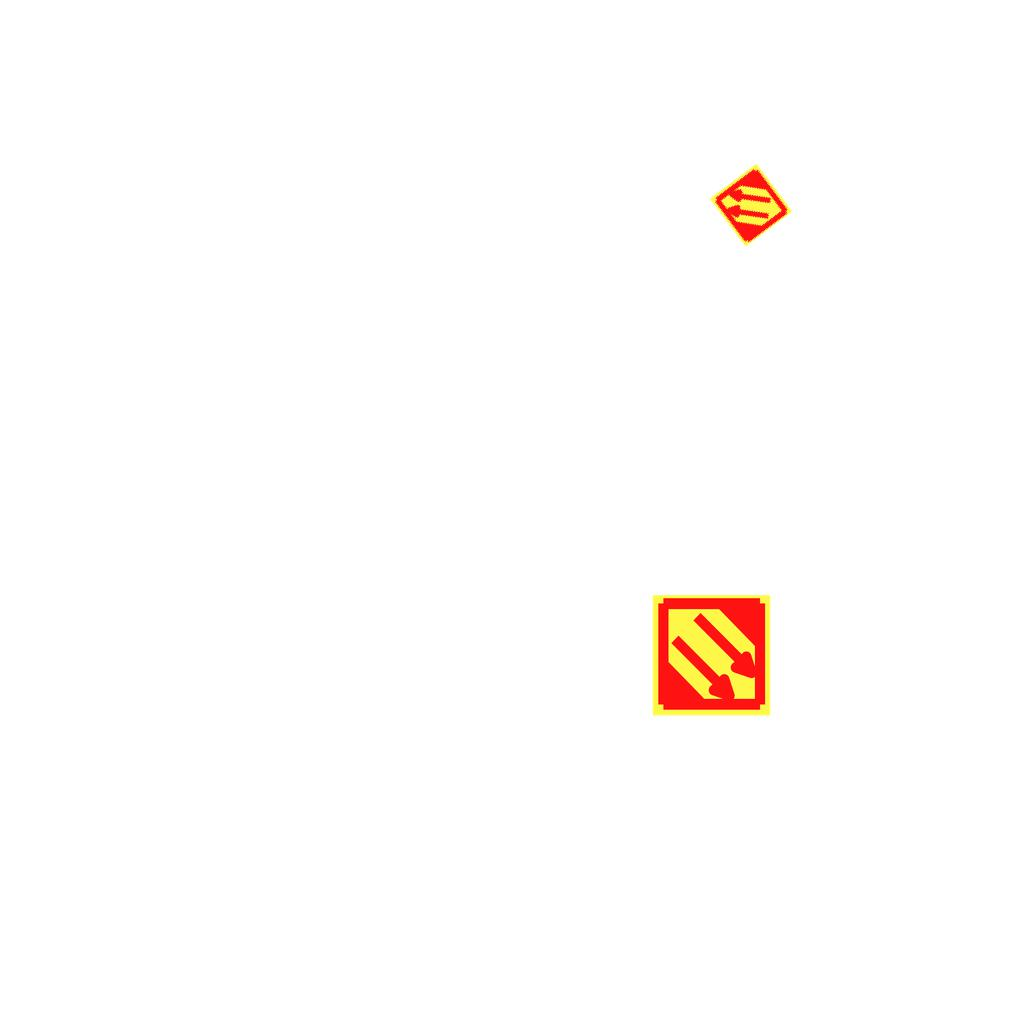ASR_Ansaugrauchmelder: (649, 593, 774, 718), (707, 161, 795, 249)
